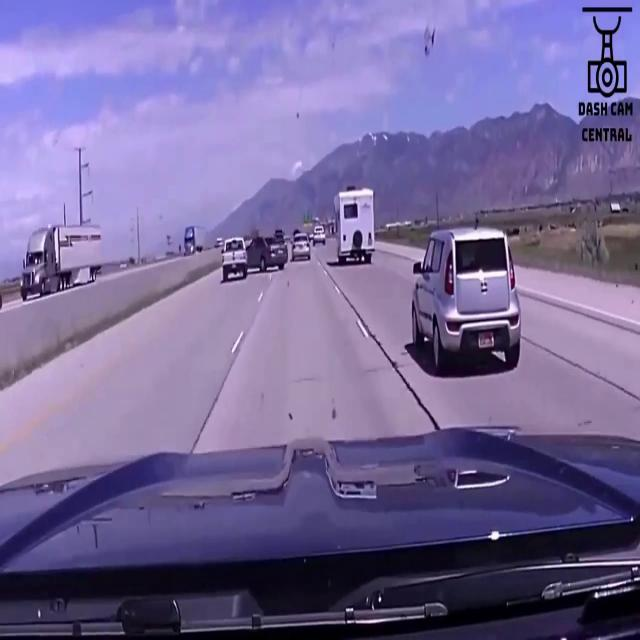accident: (221, 236, 288, 279)
